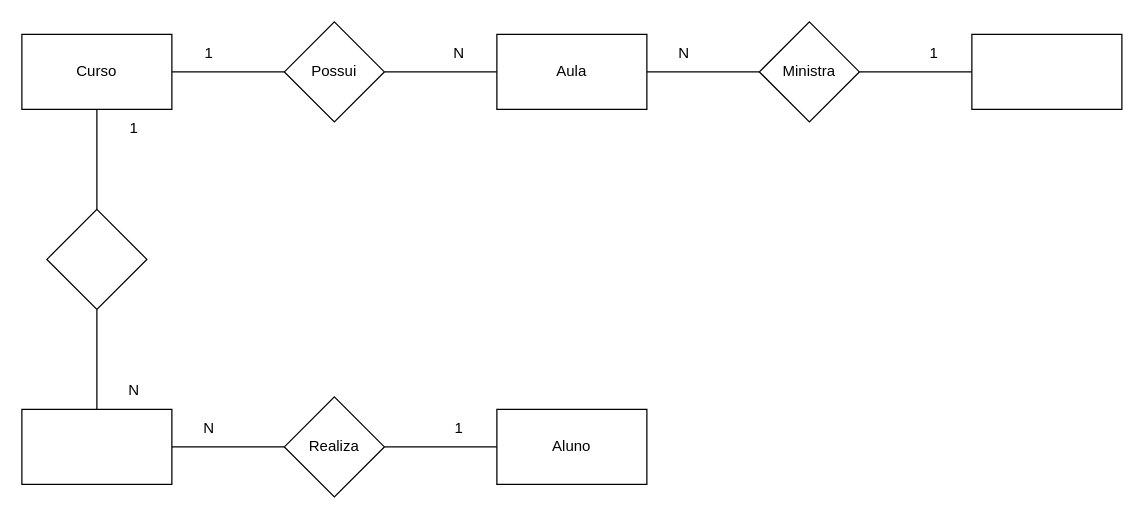
This 1144x519 diagram has some shape labels left out. Each missing label, with the centre of its shape:
Matricula: the point at 96,446
Professor: the point at 1046,71
Recebe: the point at 96,258
